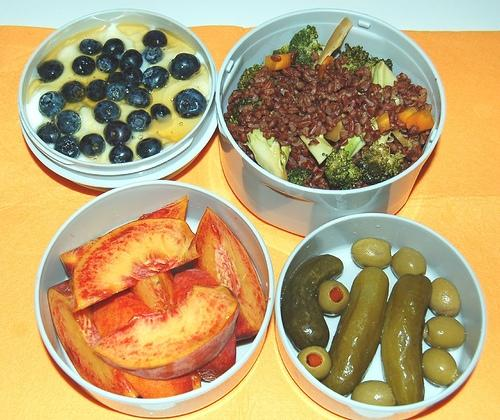blueberry: (174, 89, 207, 118), (167, 52, 200, 80), (38, 91, 66, 119), (142, 66, 170, 93), (103, 120, 131, 146), (92, 100, 121, 124), (55, 135, 82, 159), (79, 132, 106, 156), (56, 110, 81, 135), (60, 80, 86, 104), (37, 60, 64, 83), (124, 88, 153, 109), (127, 109, 152, 132), (84, 79, 108, 102), (136, 138, 162, 159), (37, 121, 60, 144), (120, 49, 143, 71), (72, 55, 96, 76), (108, 144, 134, 163), (121, 66, 143, 88), (96, 52, 119, 73), (142, 31, 168, 48), (106, 82, 128, 102), (79, 39, 103, 56), (102, 38, 124, 55), (143, 46, 163, 64), (150, 104, 171, 121), (108, 72, 122, 84)
broccoli: (322, 132, 366, 190), (244, 128, 292, 181), (356, 143, 406, 185), (288, 24, 320, 66), (300, 134, 334, 164), (337, 43, 369, 74), (237, 64, 265, 91), (370, 61, 398, 88), (286, 167, 314, 186), (364, 57, 393, 72), (238, 97, 262, 108), (272, 44, 289, 56)
carrot: (406, 110, 435, 133), (265, 52, 292, 70), (397, 107, 418, 124), (376, 112, 390, 133)
peach: (92, 285, 240, 380), (72, 218, 200, 312), (93, 289, 193, 399), (59, 194, 188, 278), (192, 206, 266, 342), (196, 328, 236, 382), (126, 270, 174, 313)
